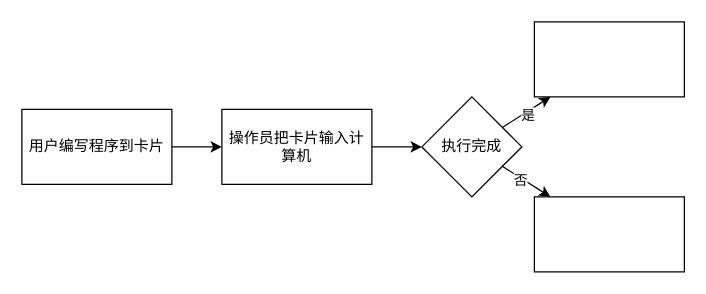
Some shapes in this 706 by 294 pixel diagram are drawn without their labels. Here are the shapes that lost their labels. From the top down, the centre of each, then its label:
point (608, 59): 把打印的结果给用户
point (608, 234): 操作员终止程序
